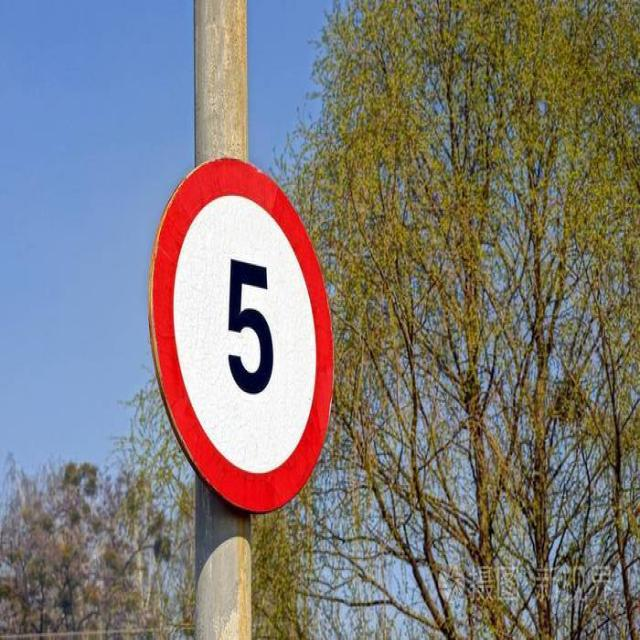speed limit 10: (147, 161, 336, 514)
